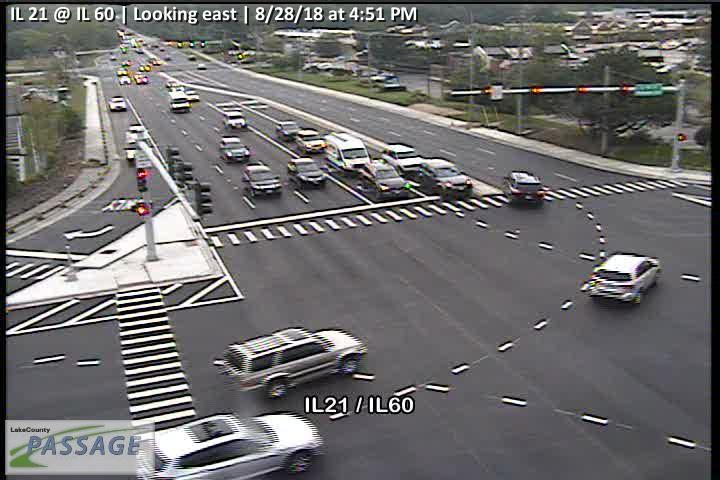SUV: (136, 411, 325, 480), (214, 328, 368, 400), (417, 158, 472, 199), (357, 159, 411, 200), (322, 132, 370, 177), (503, 171, 545, 206), (380, 144, 423, 177), (287, 157, 328, 189), (243, 165, 282, 198), (295, 128, 325, 154), (222, 110, 247, 132), (275, 121, 300, 140), (108, 97, 127, 112)
Sedan: (589, 253, 661, 306), (220, 137, 251, 163)
Truck: (167, 91, 191, 113)
